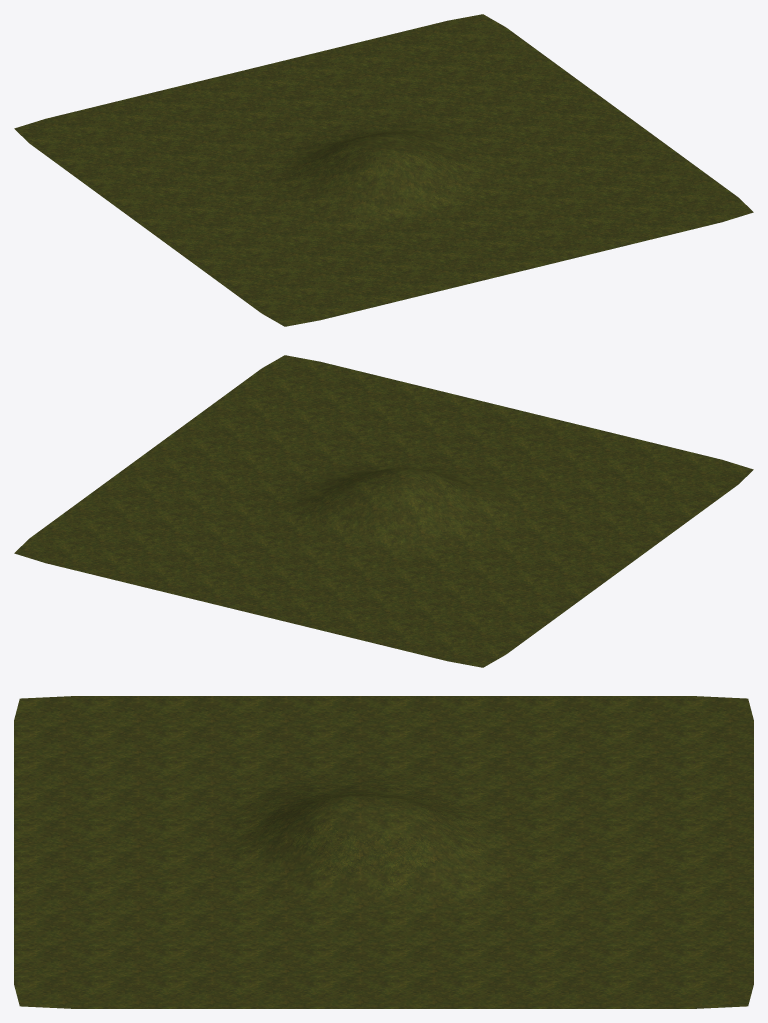
File: plano2.glb
3 views of the same model, one above another, from view 1: azimuth 30°, elevation 25°; view 2: azimuth 150°, elevation 25°; view 3: azimuth 270°, elevation 25° (orthographic). The views are drawn at different scales.
Visible parts, largest first — view 1: Plane.001; view 2: Plane.001; view 3: Plane.001.
Boxes of the visible parts, x1,y1,x2,y2 form: Plane.001: (14,14,753,326); Plane.001: (14,355,753,667); Plane.001: (14,696,753,1008).
Size of the model in its own units: 47.85 by 2.98 by 47.85.
1 material, 1 textured.
